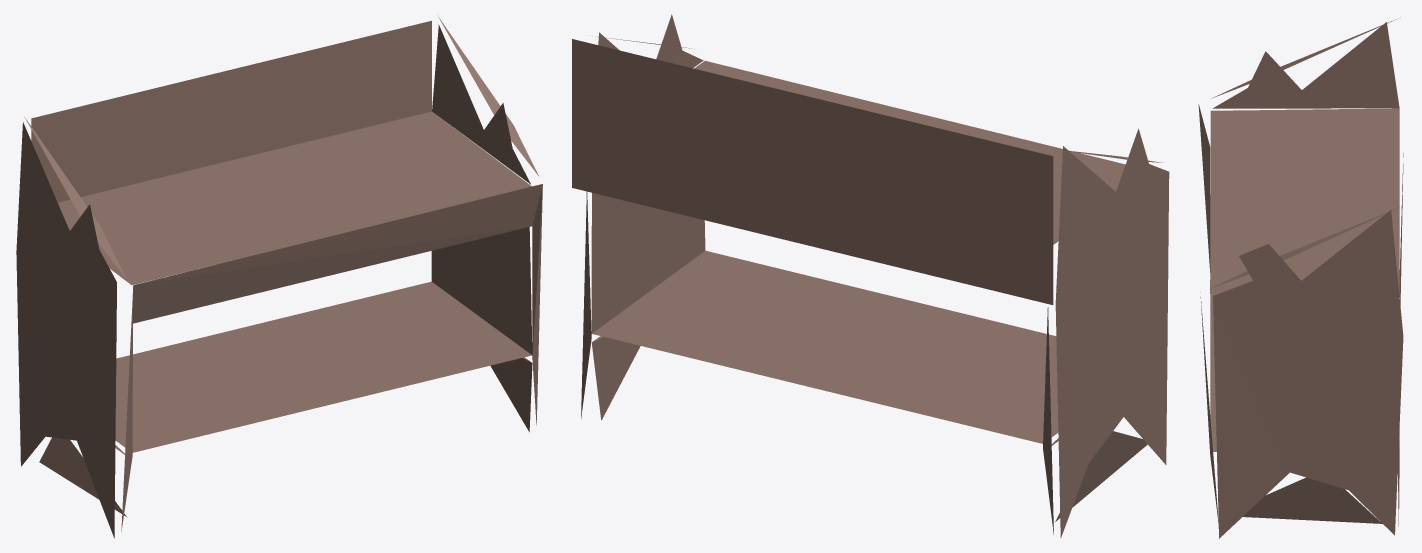
File: bench_lod1.glb
3 renders of one model, left to right at view 1: azimuth 30°, elevation 25°; view 2: azimuth 150°, elevation 25°; view 3: azimuth 270°, elevation 25°, orthographic. The views are drawn at different scales.
Parts seen in each view (by area): view 1: bench_lod1; view 2: bench_lod1; view 3: bench_lod1.
Boxes of the visible parts, <box> form: bench_lod1: <box>16,15,542,538</box>; bench_lod1: <box>572,14,1169,538</box>; bench_lod1: <box>1198,17,1403,538</box>.
Size of the model in its own units: 1.24 by 0.9782 by 0.5618.
